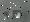person: (14, 7, 22, 18), (6, 9, 13, 19)
